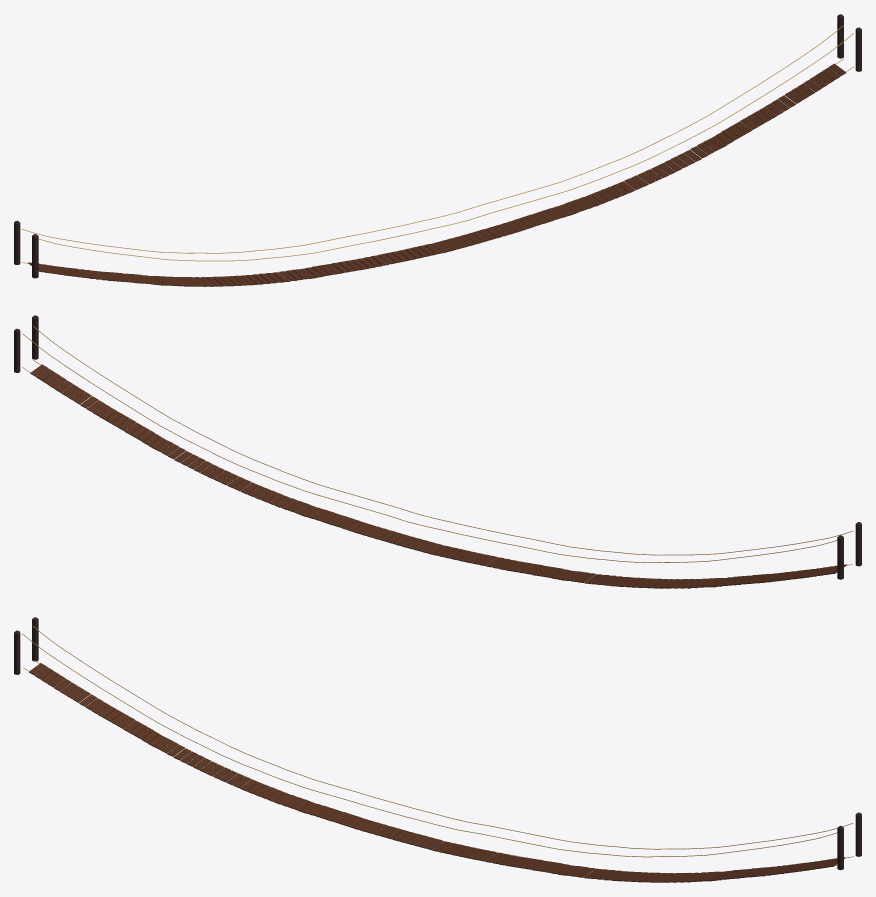
The model's file is PonteSuspensa2.0.fbx.
3 renders of one model, top to bottom at view 1: azimuth 30°, elevation 25°; view 2: azimuth 150°, elevation 25°; view 3: azimuth 330°, elevation 25°, orthographic.
Parts seen in each view (by area): view 1: Cube.001; view 2: Cube.001; view 3: Cube.001.
Boxes of the visible parts, x1,y1,x2,y2 form: Cube.001: (14, 14, 861, 286); Cube.001: (14, 315, 861, 588); Cube.001: (14, 617, 861, 882).
Size of the model in its own units: 33979 by 4983 by 1490.
2 materials, 1 textured.
